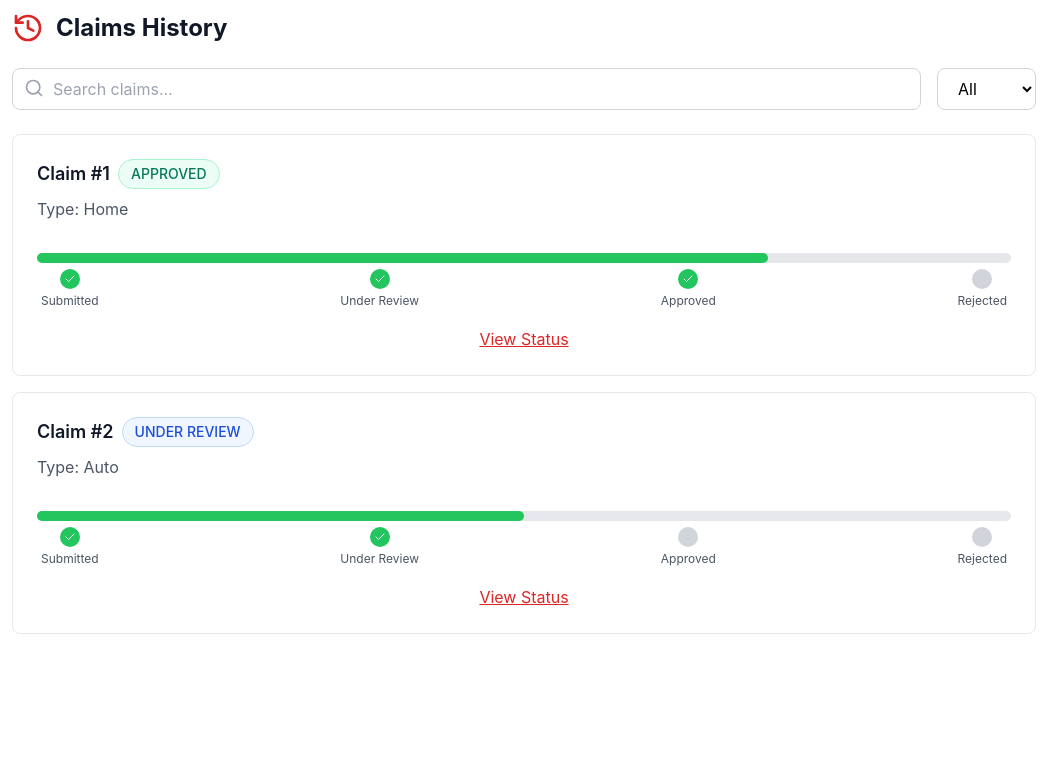
Test case: ClaimHistory Component › shows empty state when no claims match filters
Type "nonexistent" into the field with placeholder "Search claims..." at (466, 89), box [12,68,921,110]
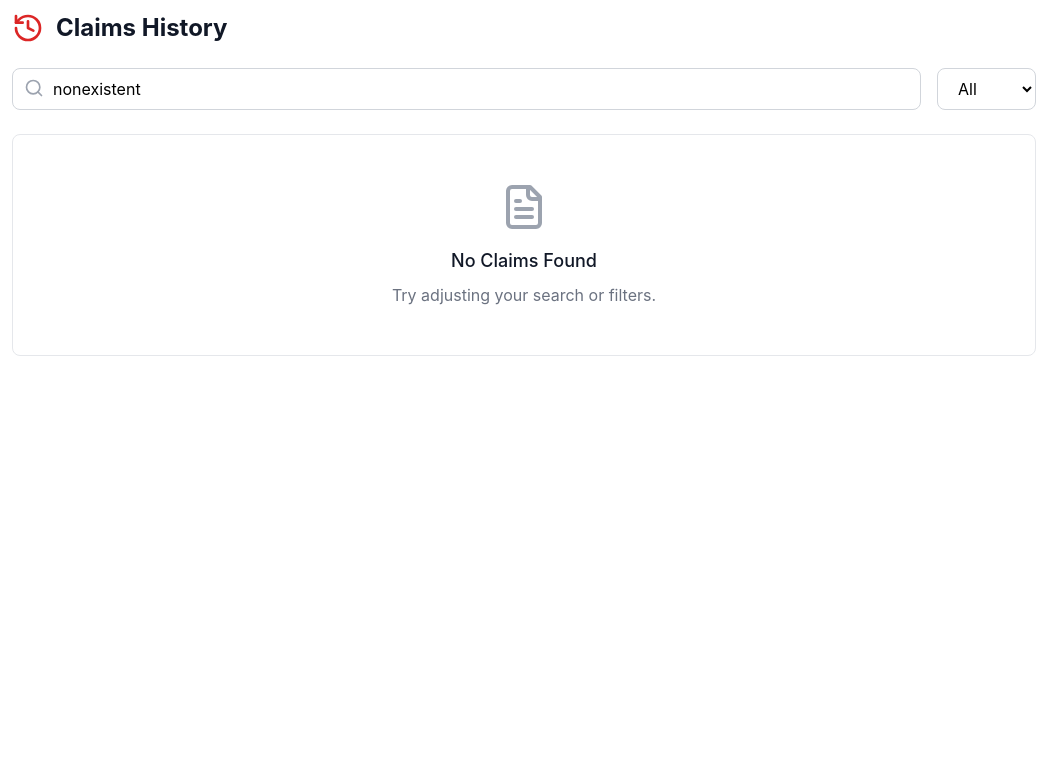
Result: the text "Try adjusting your search or filters." is shown at [392,285,656,305]
